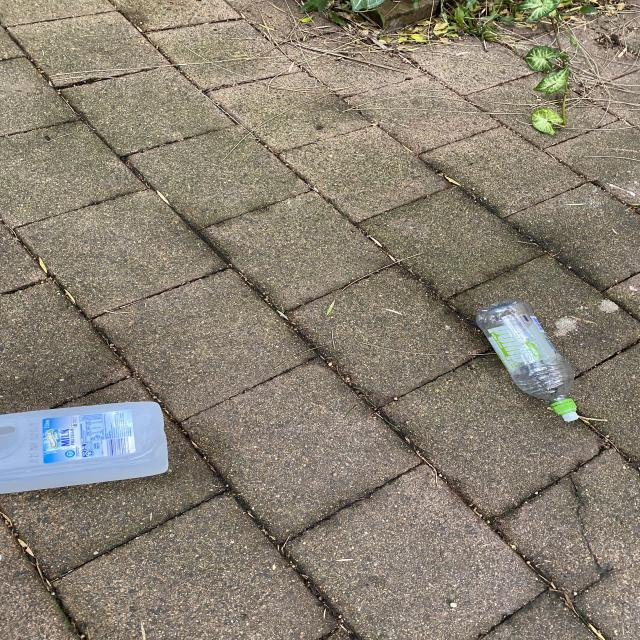bottle: (2, 396, 178, 490), (476, 294, 584, 422)
